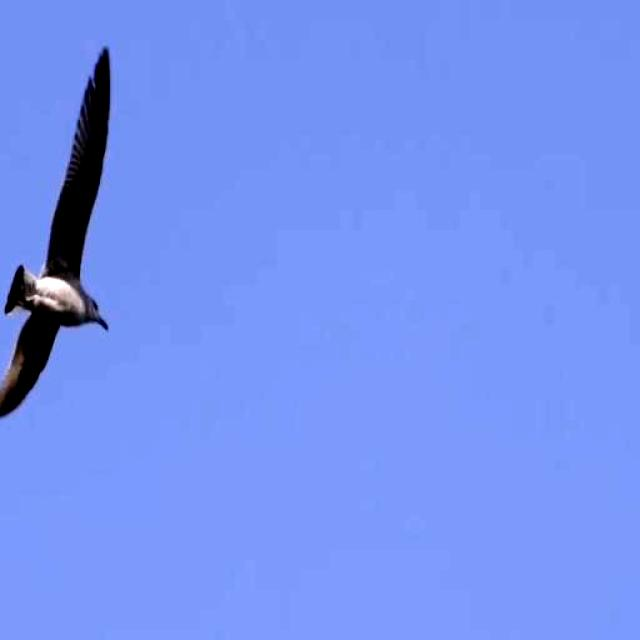airplane: (0, 42, 129, 434)
